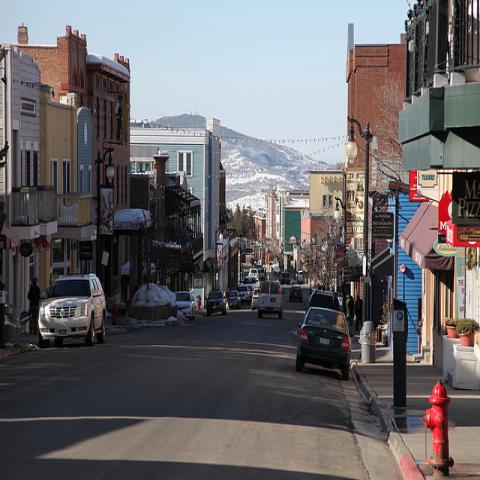car: (37, 271, 107, 349), (293, 308, 356, 376), (256, 280, 286, 320), (306, 290, 341, 312), (175, 291, 196, 321), (206, 291, 230, 316), (226, 290, 242, 310), (243, 276, 259, 292), (288, 286, 304, 302), (238, 285, 250, 303), (251, 289, 258, 311)
